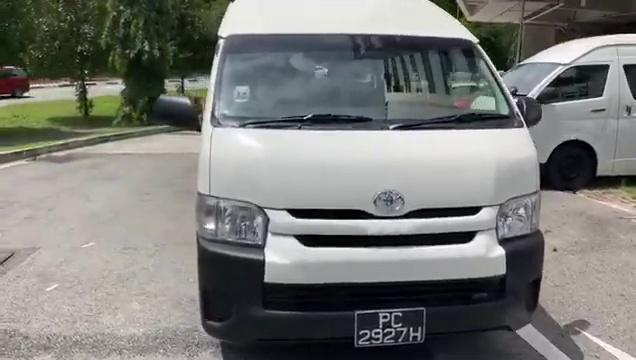van: (168, 0, 565, 360)
